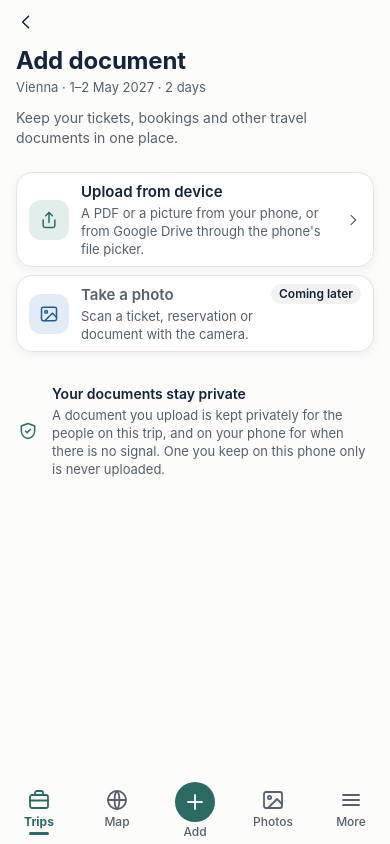
Test case: a cancelled picker changes nothing; a file that is not a PDF or picture is refused
Click the button with test id "choose-file": [195, 220] box [17,173,373,266]
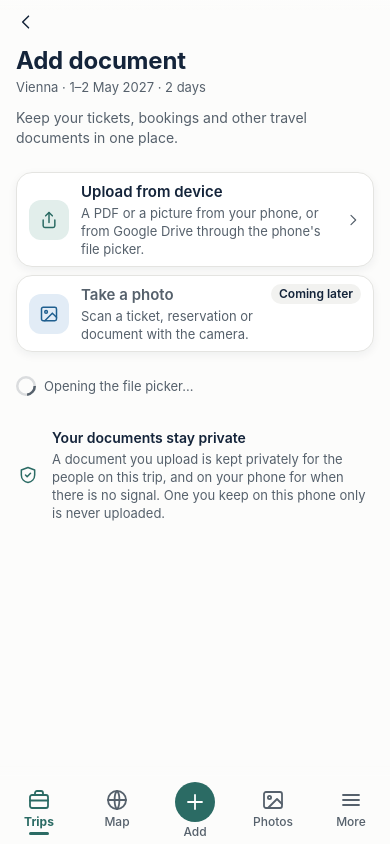
Click the button with test id "choose-file": [195, 220] box [17,173,373,266]
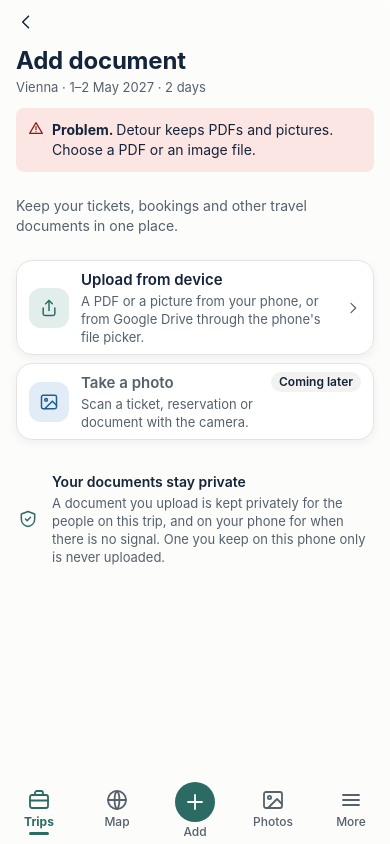
expect the text "Detour keeps PDFs and pictures" is shown: met, box [52,121,337,158]
